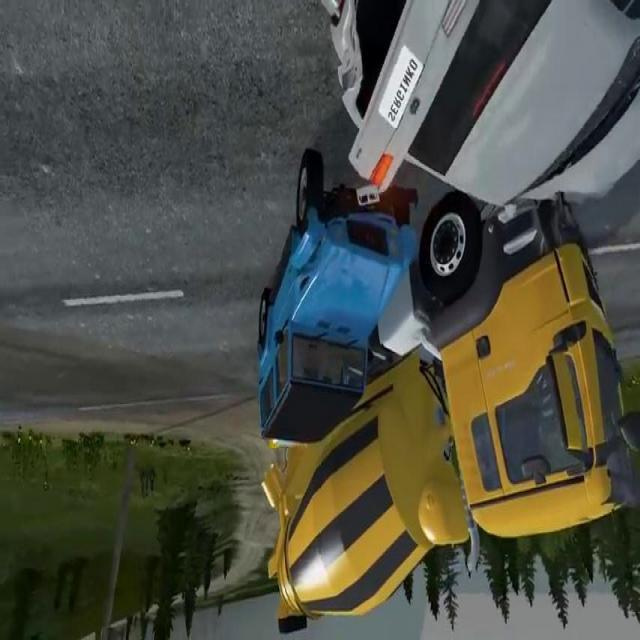moderate: (258, 160, 640, 640)
